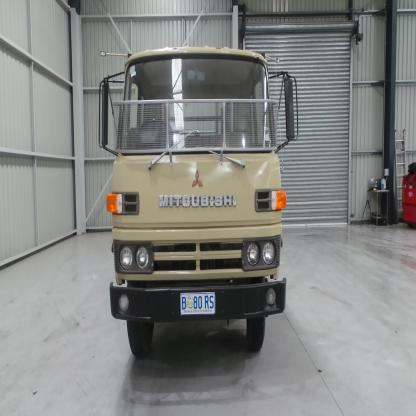truck: (100, 39, 299, 361)
